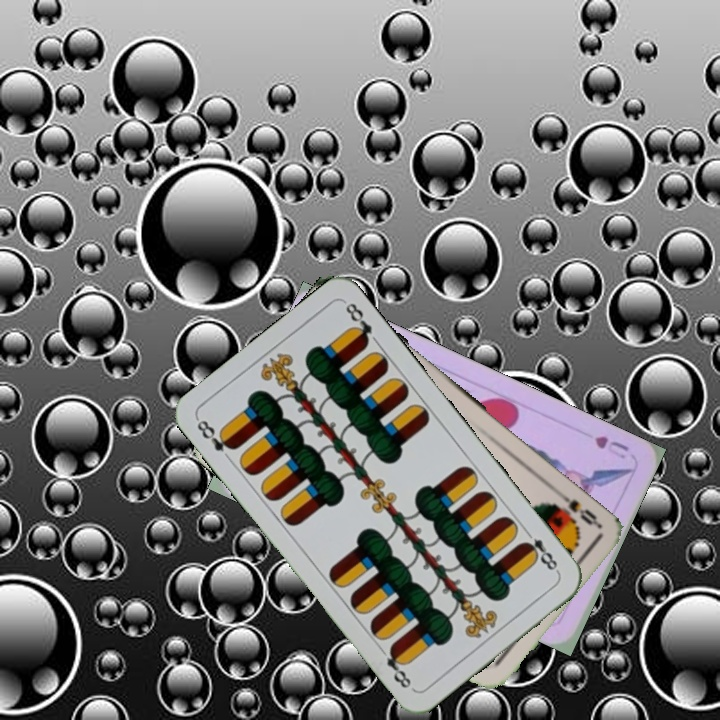E8: (518, 525, 562, 576), (192, 415, 239, 455)
HU: (591, 431, 631, 462)
SO: (551, 486, 602, 529)
